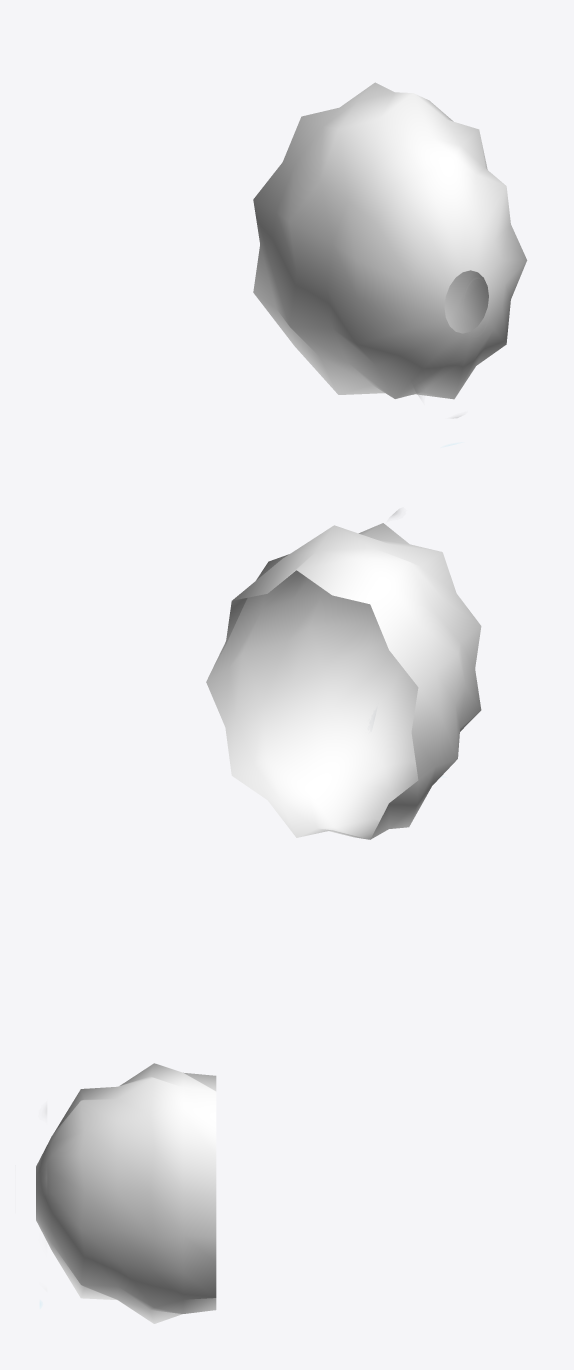
File: OverHeadStrike_Dash_GLTF.gltf
3 renders of one model, top to bottom at view 1: azimuth 30°, elevation 25°; view 2: azimuth 150°, elevation 25°; view 3: azimuth 270°, elevation 25°, orthographic. The views are drawn at different scales.
Parts seen in each view (by area): view 1: Lights_Shield; view 2: Lights_Shield; view 3: Lights_Shield.
Part boxes in pixels (<box>): Lights_Shield: <box>253,82,527,399</box>; Lights_Shield: <box>206,523,481,839</box>; Lights_Shield: <box>36,1063,216,1323</box>.
Bounding box in the file's own units: 2.56 × 2.49 × 5.01.
6 materials, 6 textured.
